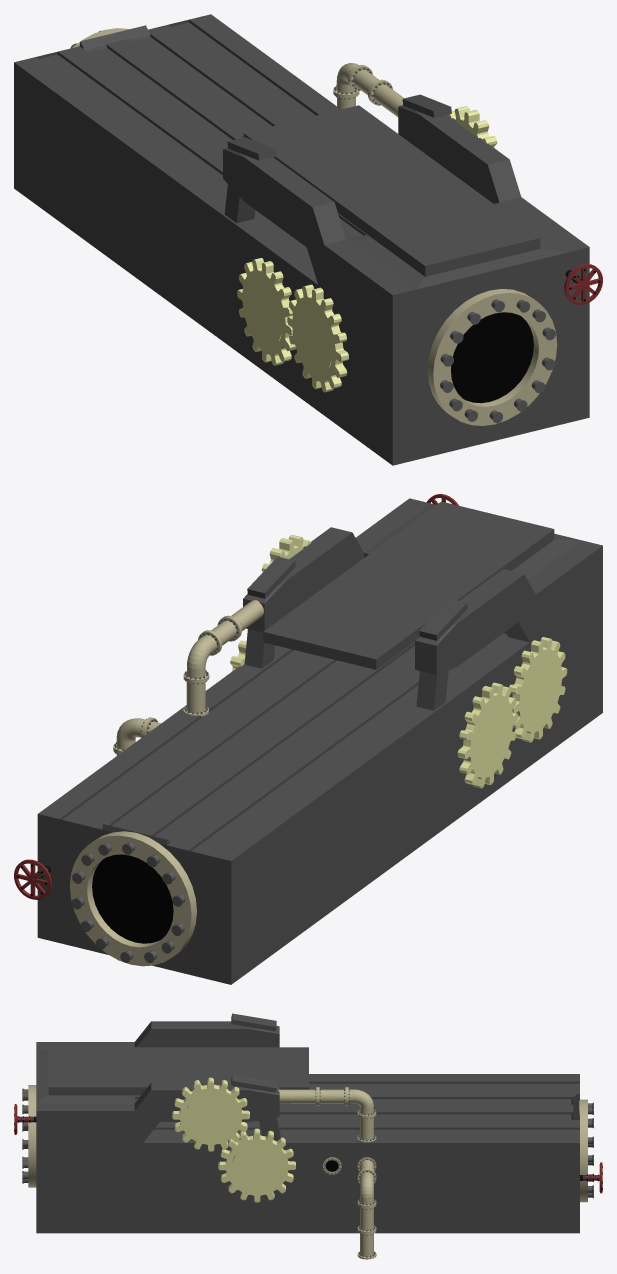
Rendered from SteamMachine2.fbx.
3 renders of one model, top to bottom at view 1: azimuth 30°, elevation 25°; view 2: azimuth 150°, elevation 25°; view 3: azimuth 270°, elevation 25°, orthographic. The views are drawn at different scales.
Parts seen in each view (by area): view 1: Куб, Цилиндр.013, Цилиндр, Цилиндр.002, Цилиндр.003, Цилиндр.005, Цилиндр.017, Цилиндр.012; view 2: Куб, Цилиндр.004, Цилиндр.007, Цилиндр.003, Цилиндр.002, Цилиндр.006, Цилиндр.008, Цилиндр.056, Цилиндр.012; view 3: Куб, Цилиндр.012, Цилиндр.001, Цилиндр.013, Цилиндр.004, Цилиндр.005, Цилиндр.067, Цилиндр.064, Цилиндр.049, Цилиндр.006, Цилиндр.056.
Part boxes in pixels (<box>): Куб: <box>14,14,589,465</box>; Цилиндр.013: <box>427,289,557,425</box>; Цилиндр: <box>451,312,533,403</box>; Цилиндр.002: <box>287,284,348,392</box>; Цилиндр.003: <box>237,258,296,365</box>; Цилиндр.005: <box>440,299,555,423</box>; Цилиндр.017: <box>564,264,602,304</box>; Цилиндр.012: <box>447,106,497,147</box>; Куб: <box>37,498,602,984</box>; Цилиндр.004: <box>70,831,196,966</box>; Цилиндр.007: <box>92,854,173,943</box>; Цилиндр.003: <box>457,682,517,788</box>; Цилиндр.002: <box>509,637,567,742</box>; Цилиндр.006: <box>71,842,185,962</box>; Цилиндр.008: <box>14,859,51,899</box>; Цилиндр.056: <box>187,637,214,673</box>; Цилиндр.012: <box>261,535,311,571</box>; Куб: <box>36,1013,579,1233</box>; Цилиндр.012: <box>172,1077,249,1151</box>; Цилиндр.001: <box>218,1128,295,1202</box>; Цилиндр.013: <box>28,1085,36,1187</box>; Цилиндр.004: <box>579,1099,587,1202</box>; Цилиндр.005: <box>22,1088,28,1183</box>; Цилиндр.067: <box>290,1089,316,1103</box>; Цилиндр.064: <box>319,1089,345,1103</box>; Цилиндр.049: <box>360,1173,373,1201</box>; Цилиндр.006: <box>588,1102,593,1198</box>; Цилиндр.056: <box>352,1089,373,1111</box>.
Bounding box in the file's own units: 426 × 324 × 1103.
